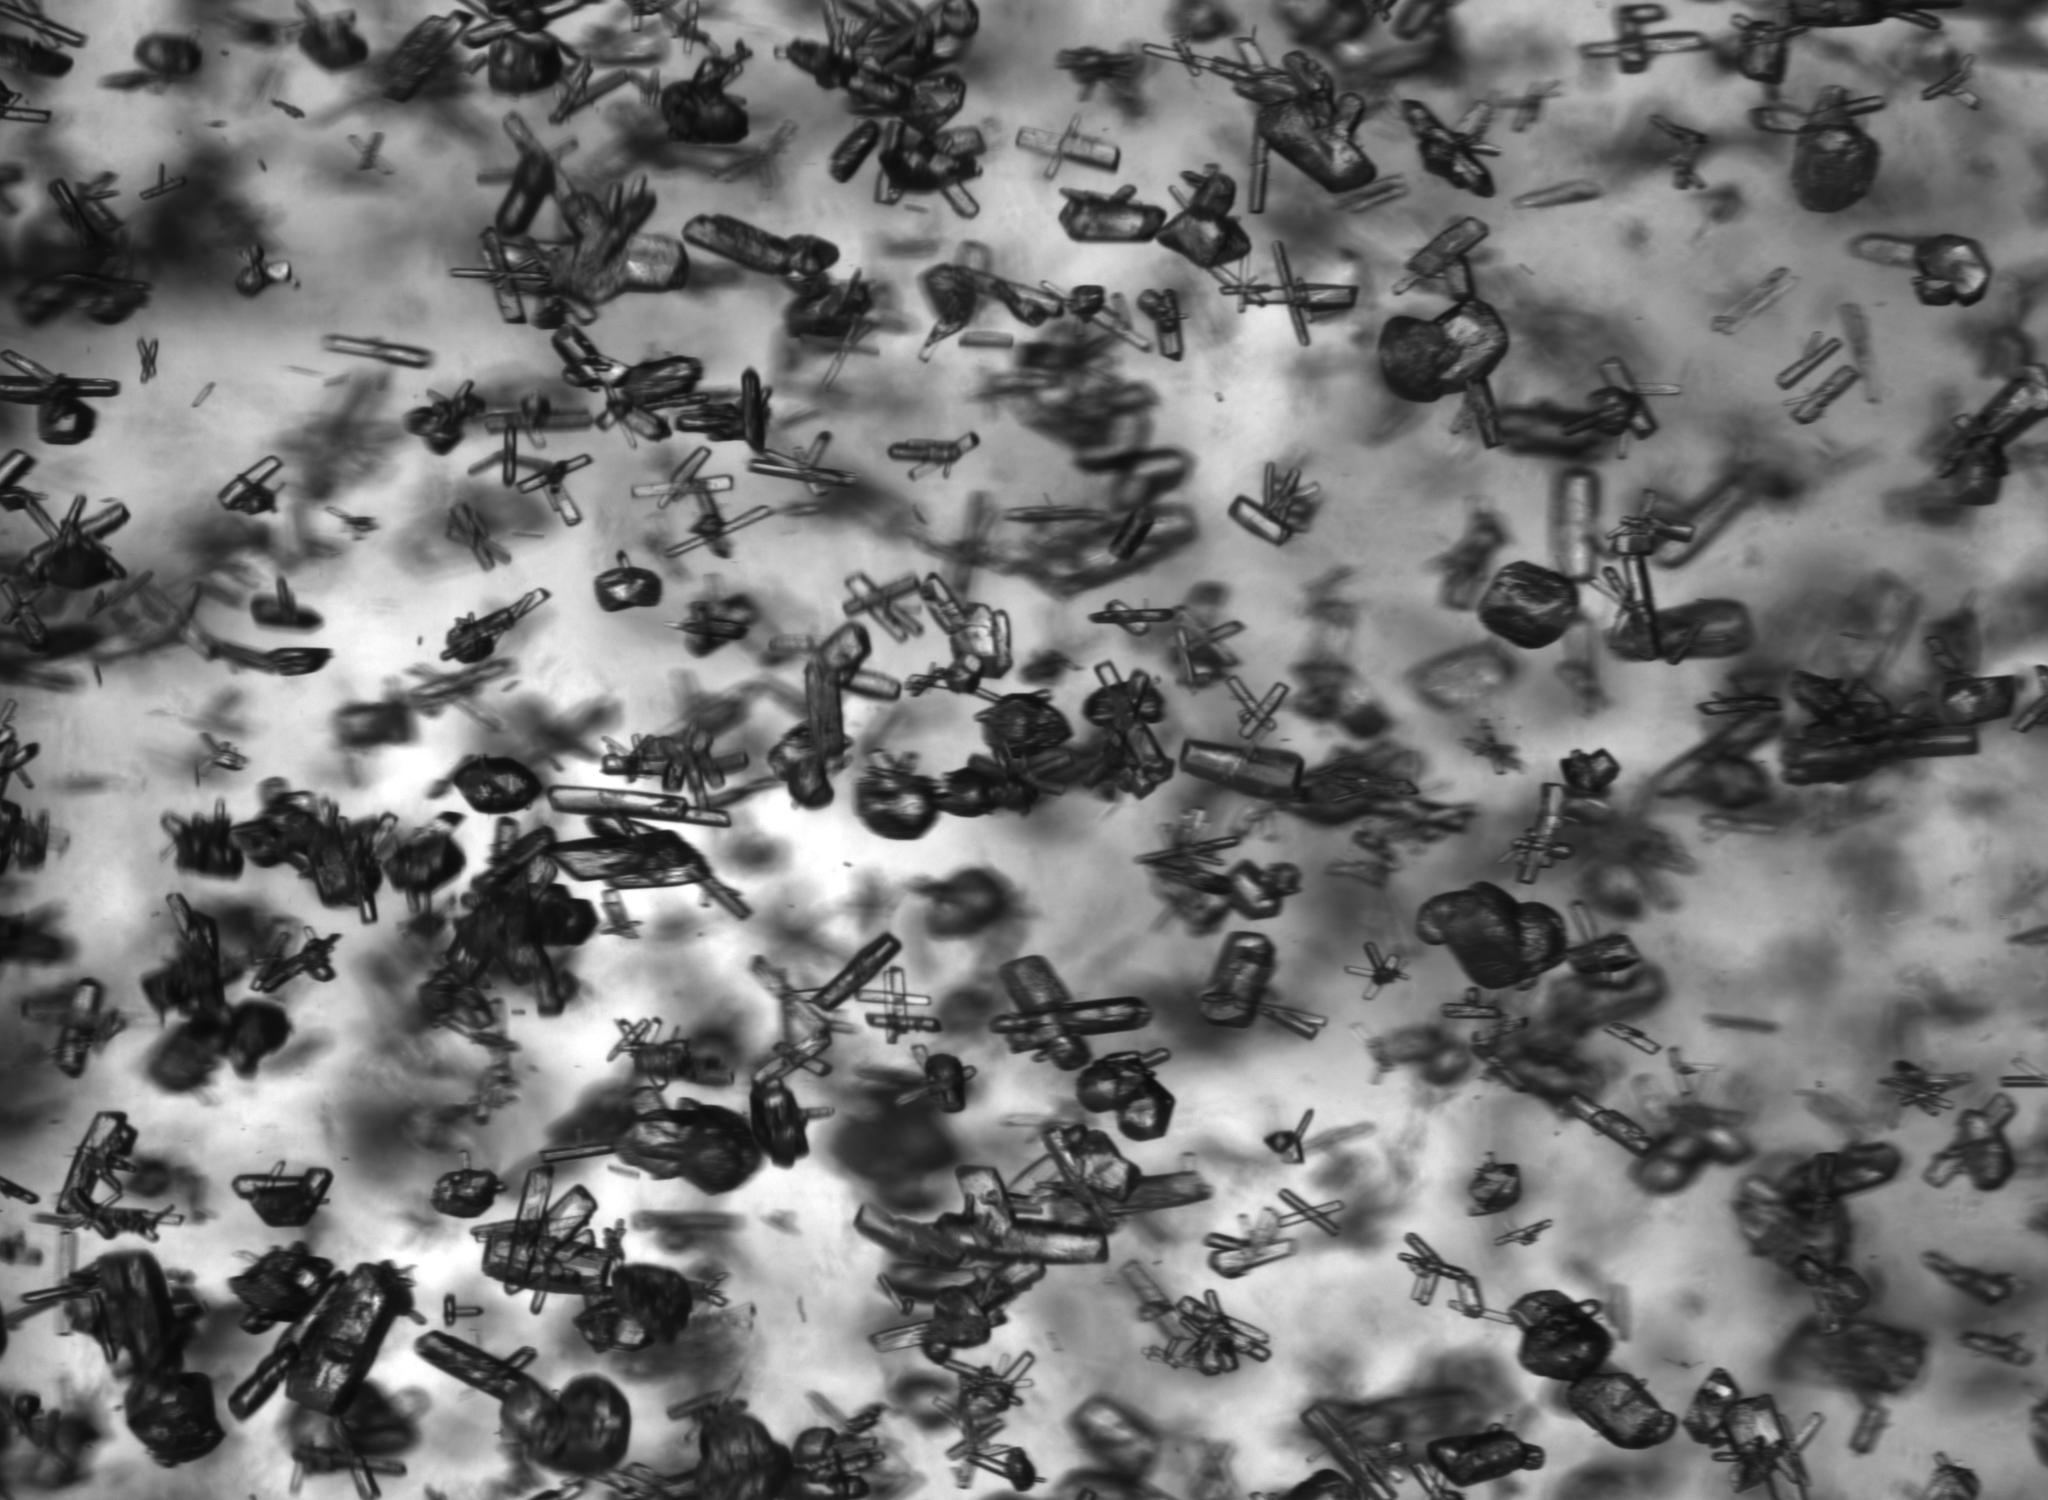crystal: (855, 1123, 1210, 1363), (855, 660, 1172, 840), (19, 1228, 224, 1467), (784, 0, 984, 215), (1142, 37, 1377, 213), (165, 791, 463, 921), (418, 818, 596, 1028), (455, 178, 688, 320), (415, 1330, 631, 1478), (231, 1249, 412, 1420), (609, 1397, 887, 1500), (1735, 1144, 1902, 1311), (682, 215, 875, 348), (768, 622, 902, 810), (541, 1085, 765, 1195), (1781, 671, 1976, 786), (471, 1166, 623, 1312), (545, 814, 751, 919), (1140, 810, 1301, 932), (1493, 359, 1679, 461), (1684, 1370, 1827, 1500), (0, 450, 130, 592), (992, 956, 1151, 1071), (919, 264, 1104, 361), (552, 328, 709, 441), (1752, 84, 1886, 210), (1417, 881, 1569, 989), (1121, 1266, 1270, 1376), (43, 1112, 173, 1238), (1207, 243, 1360, 347), (1938, 364, 2048, 507), (930, 1352, 1040, 1490), (1377, 293, 1509, 402), (900, 574, 1011, 695), (1202, 932, 1326, 1039), (749, 1021, 833, 1166), (461, 0, 587, 97), (601, 725, 747, 806), (480, 420, 592, 527), (143, 894, 239, 1016), (0, 352, 119, 445), (19, 978, 127, 1077), (574, 1265, 693, 1352), (493, 113, 576, 237), (1852, 234, 1992, 305), (1156, 165, 1250, 270), (1301, 1406, 1406, 1500), (1608, 598, 1752, 665), (1399, 100, 1499, 196), (1509, 1290, 1612, 1382), (375, 6, 472, 102), (1565, 1370, 1678, 1449), (1926, 1093, 2018, 1190), (1477, 562, 1579, 649), (1075, 1051, 1173, 1141), (652, 56, 749, 145), (1393, 216, 1488, 301), (674, 369, 770, 453), (545, 784, 730, 827), (1587, 5, 1698, 73), (1178, 740, 1304, 800), (669, 488, 774, 560), (1228, 463, 1318, 546), (808, 934, 902, 1012), (1426, 1425, 1544, 1487), (1396, 1231, 1479, 1319), (440, 593, 542, 663), (747, 431, 857, 493), (1016, 115, 1119, 180), (1604, 557, 1670, 660), (232, 1161, 332, 1228), (1204, 1207, 1296, 1279), (1565, 899, 1644, 980), (855, 967, 940, 1043), (1059, 185, 1167, 243), (1714, 14, 1802, 86), (1511, 783, 1573, 883), (1169, 606, 1243, 689), (634, 445, 733, 507), (250, 927, 340, 994), (607, 1018, 692, 1088), (48, 172, 124, 248), (405, 382, 485, 455), (892, 1043, 975, 1113), (1563, 1093, 1654, 1156), (1609, 492, 1697, 557), (843, 573, 922, 643), (549, 54, 628, 124), (450, 756, 542, 814), (1922, 1250, 2016, 1306), (1881, 1058, 1975, 1113), (205, 636, 332, 676), (1221, 673, 1291, 741), (445, 501, 510, 569), (1790, 364, 1864, 425), (887, 431, 979, 479), (593, 550, 663, 612), (1650, 116, 1709, 189), (216, 455, 285, 515), (1943, 674, 2026, 724), (323, 334, 434, 369), (1776, 331, 1841, 390), (1919, 48, 1980, 110), (431, 1168, 502, 1218), (1456, 377, 1506, 449), (1089, 600, 1185, 636), (1345, 940, 1404, 999), (1461, 717, 1522, 775), (1137, 288, 1185, 359), (1105, 501, 1159, 563), (1275, 1188, 1345, 1236), (471, 1053, 518, 1123), (1468, 1155, 1522, 1215), (235, 242, 294, 296), (1787, 0, 1889, 29), (1560, 749, 1620, 797), (1921, 1452, 1980, 1500), (1959, 1330, 2035, 1366), (1512, 178, 1603, 208), (196, 732, 248, 783), (1264, 1110, 1313, 1163), (1662, 1045, 1709, 1094), (1441, 986, 1506, 1020), (0, 83, 52, 124), (1600, 1021, 1662, 1055), (1469, 1013, 1526, 1045), (1493, 1218, 1552, 1245), (957, 329, 1014, 353), (1887, 8, 1943, 32), (444, 1293, 483, 1325), (137, 337, 159, 383)
